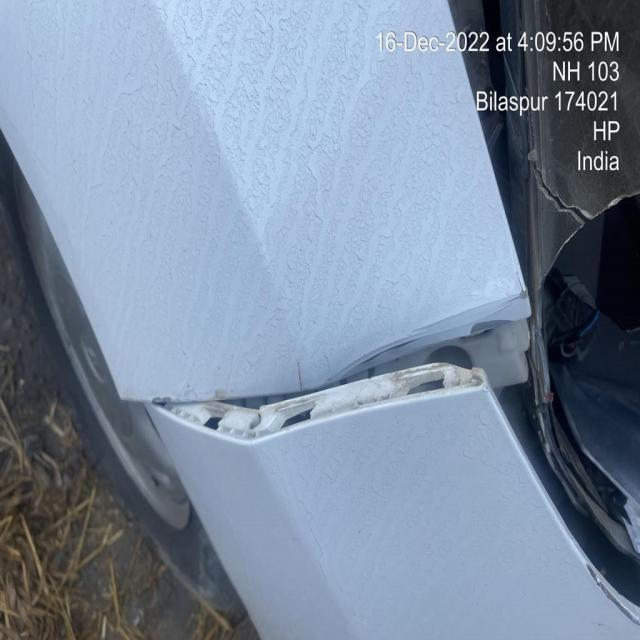damage: (520, 141, 639, 512), (159, 315, 489, 447)
